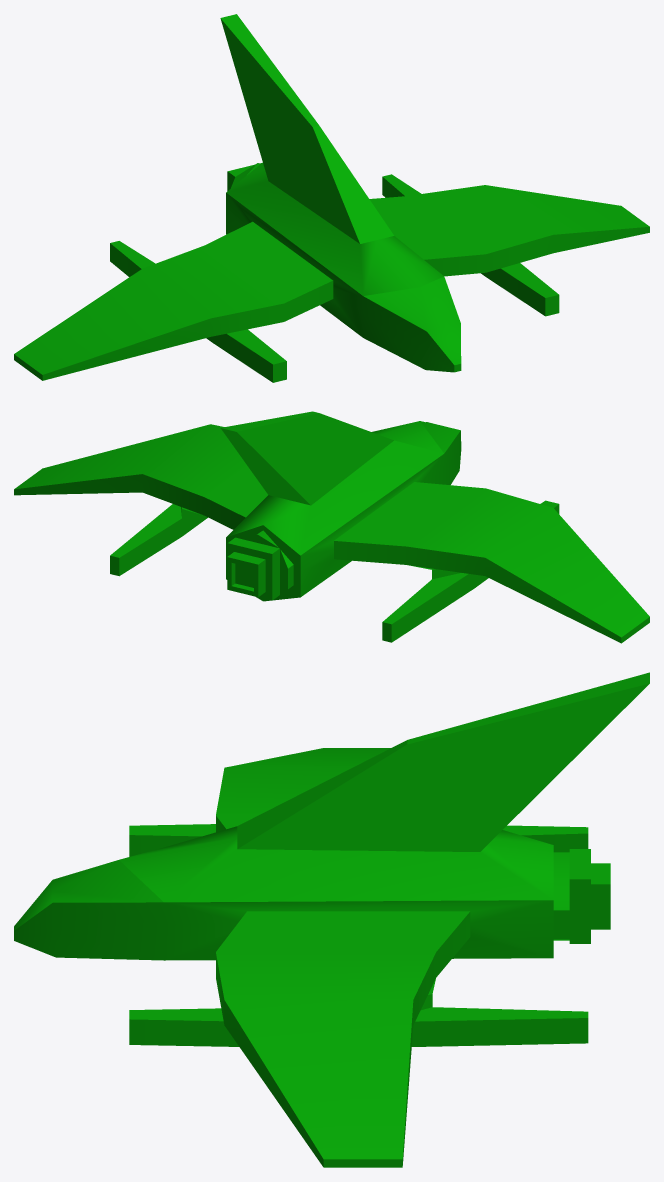
The model's file is nave.fbx.
The picture shows the model from 3 angles, top to bottom: view 1: azimuth 30°, elevation 25°; view 2: azimuth 150°, elevation 25°; view 3: azimuth 270°, elevation 25°; orthographic projection. The views are drawn at different scales.
Parts seen in each view (by area): view 1: pCube1; view 2: pCube1; view 3: pCube1.
Part boxes in pixels (x1,y1,x2,y2): pCube1: [14, 14, 649, 382]; pCube1: [14, 411, 649, 643]; pCube1: [14, 672, 649, 1167].
Bounding box in the file's own units: 7.49 × 2.41 × 4.9.
